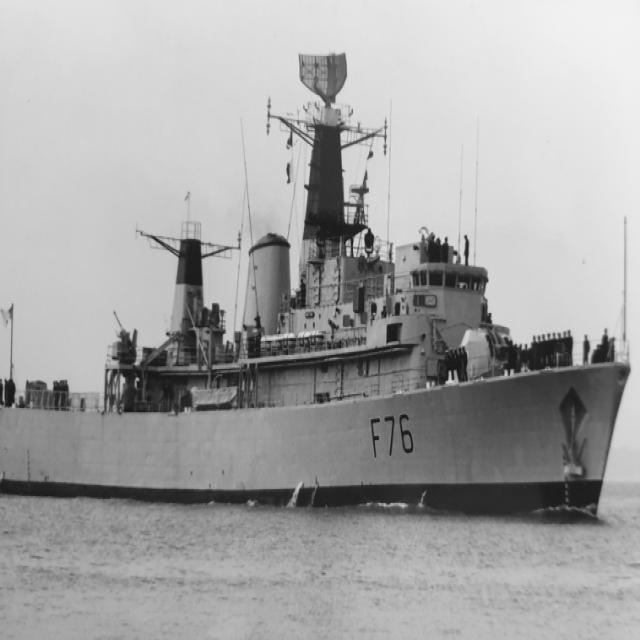Fragata: (1, 44, 635, 532)
